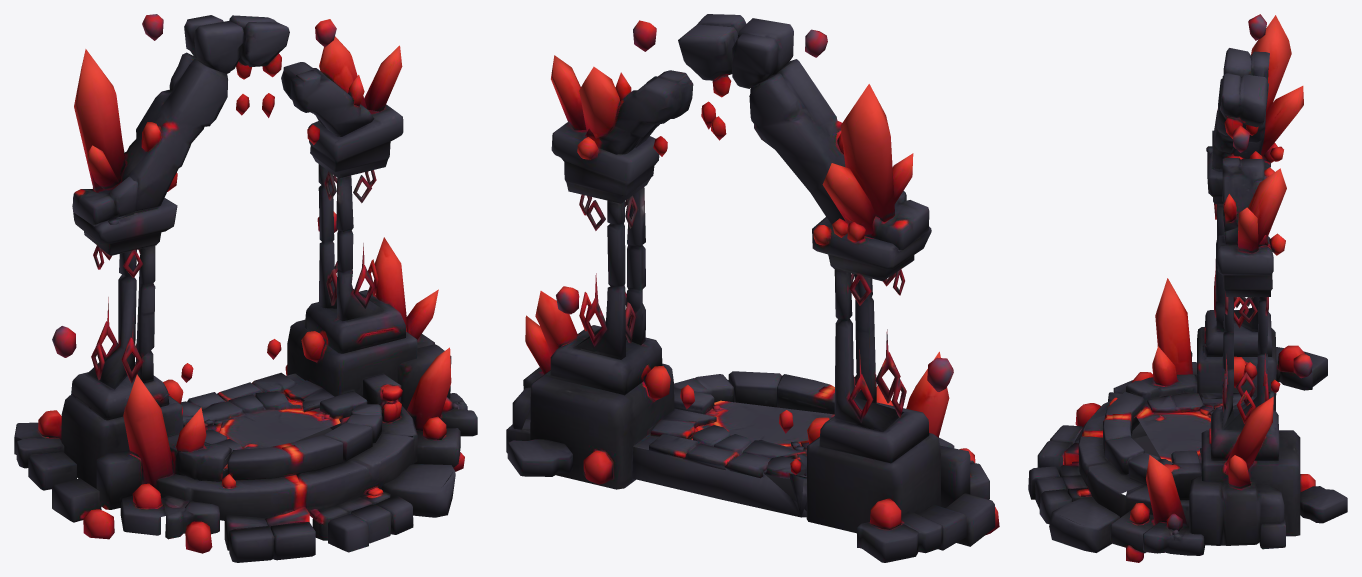
Rendered from solara-portal.glb.
3 views of the same model, side by side, from view 1: azimuth 30°, elevation 25°; view 2: azimuth 150°, elevation 25°; view 3: azimuth 270°, elevation 25° (orthographic). The views are drawn at different scales.
Parts seen in each view (by area): view 1: tripo_node_57d696d1-0edb-4b00-b4ac-9e67eee0aabb; view 2: tripo_node_57d696d1-0edb-4b00-b4ac-9e67eee0aabb; view 3: tripo_node_57d696d1-0edb-4b00-b4ac-9e67eee0aabb.
Boxes of the visible parts, box(x1,y1,x2,y2) form: tripo_node_57d696d1-0edb-4b00-b4ac-9e67eee0aabb: box(14, 14, 477, 562); tripo_node_57d696d1-0edb-4b00-b4ac-9e67eee0aabb: box(506, 14, 999, 562); tripo_node_57d696d1-0edb-4b00-b4ac-9e67eee0aabb: box(1028, 14, 1347, 562).
Bounding box in the file's own units: 0.8906 × 0.998 × 0.6582.
1 material, 1 textured.
